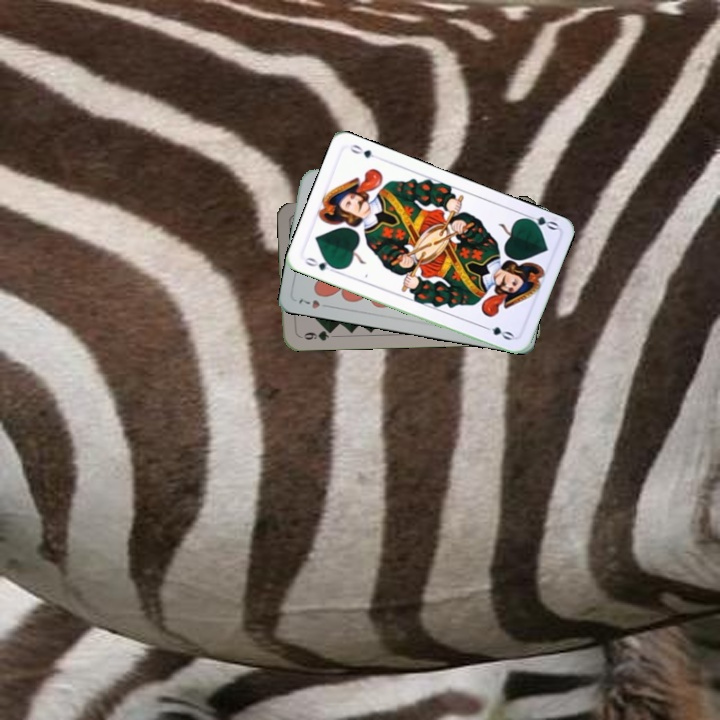G9: (295, 326, 336, 343)
GO: (519, 210, 560, 233), (301, 253, 340, 275)
H7: (295, 294, 333, 311)
